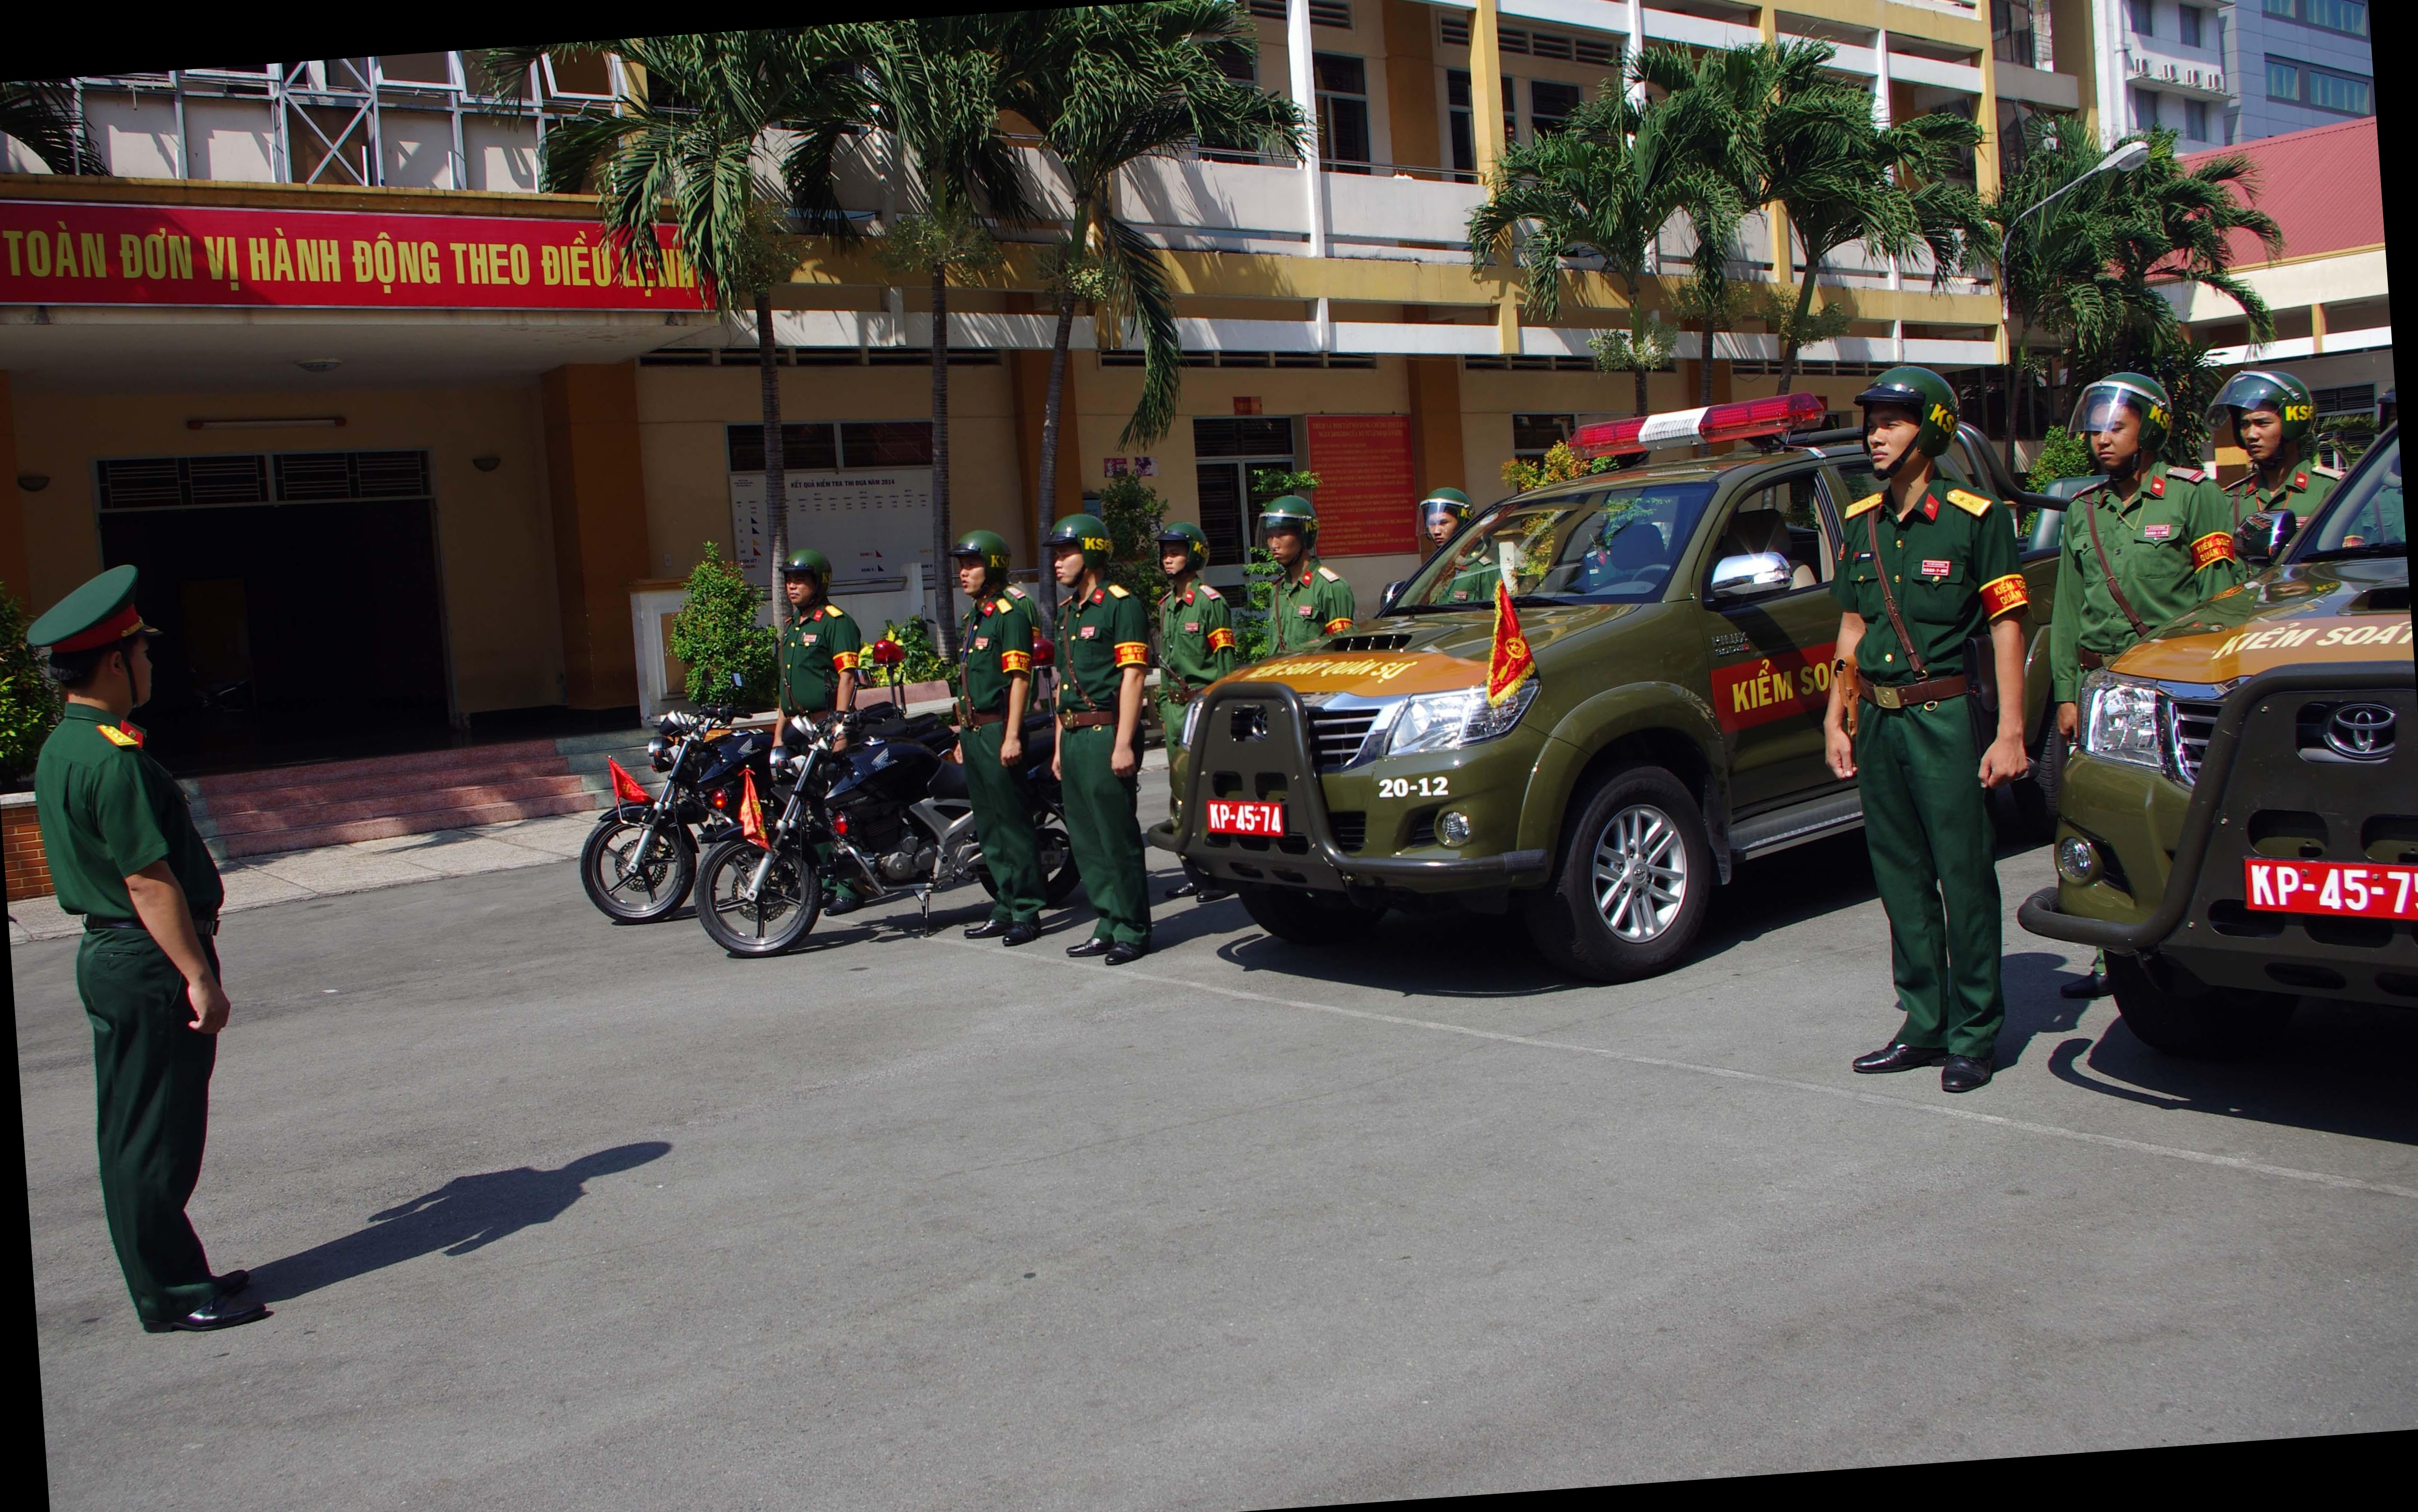plate: (2252, 847, 2418, 940), (1199, 794, 1290, 846)
